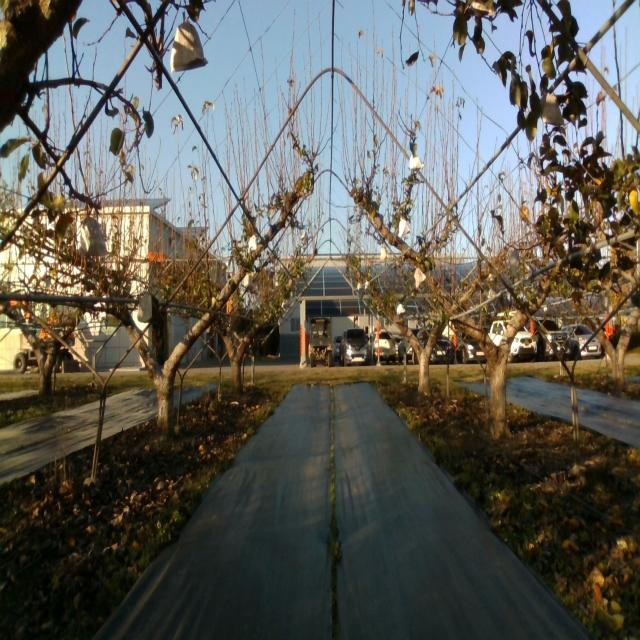pearbags: (171, 10, 208, 74), (79, 216, 107, 256), (540, 92, 566, 127), (508, 250, 522, 276), (409, 152, 424, 172), (398, 218, 411, 238)
